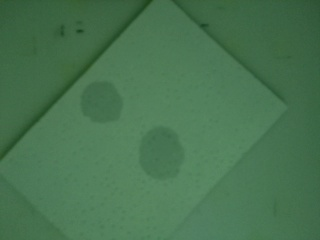Water_detected: (151, 133, 186, 179), (89, 90, 116, 114)
